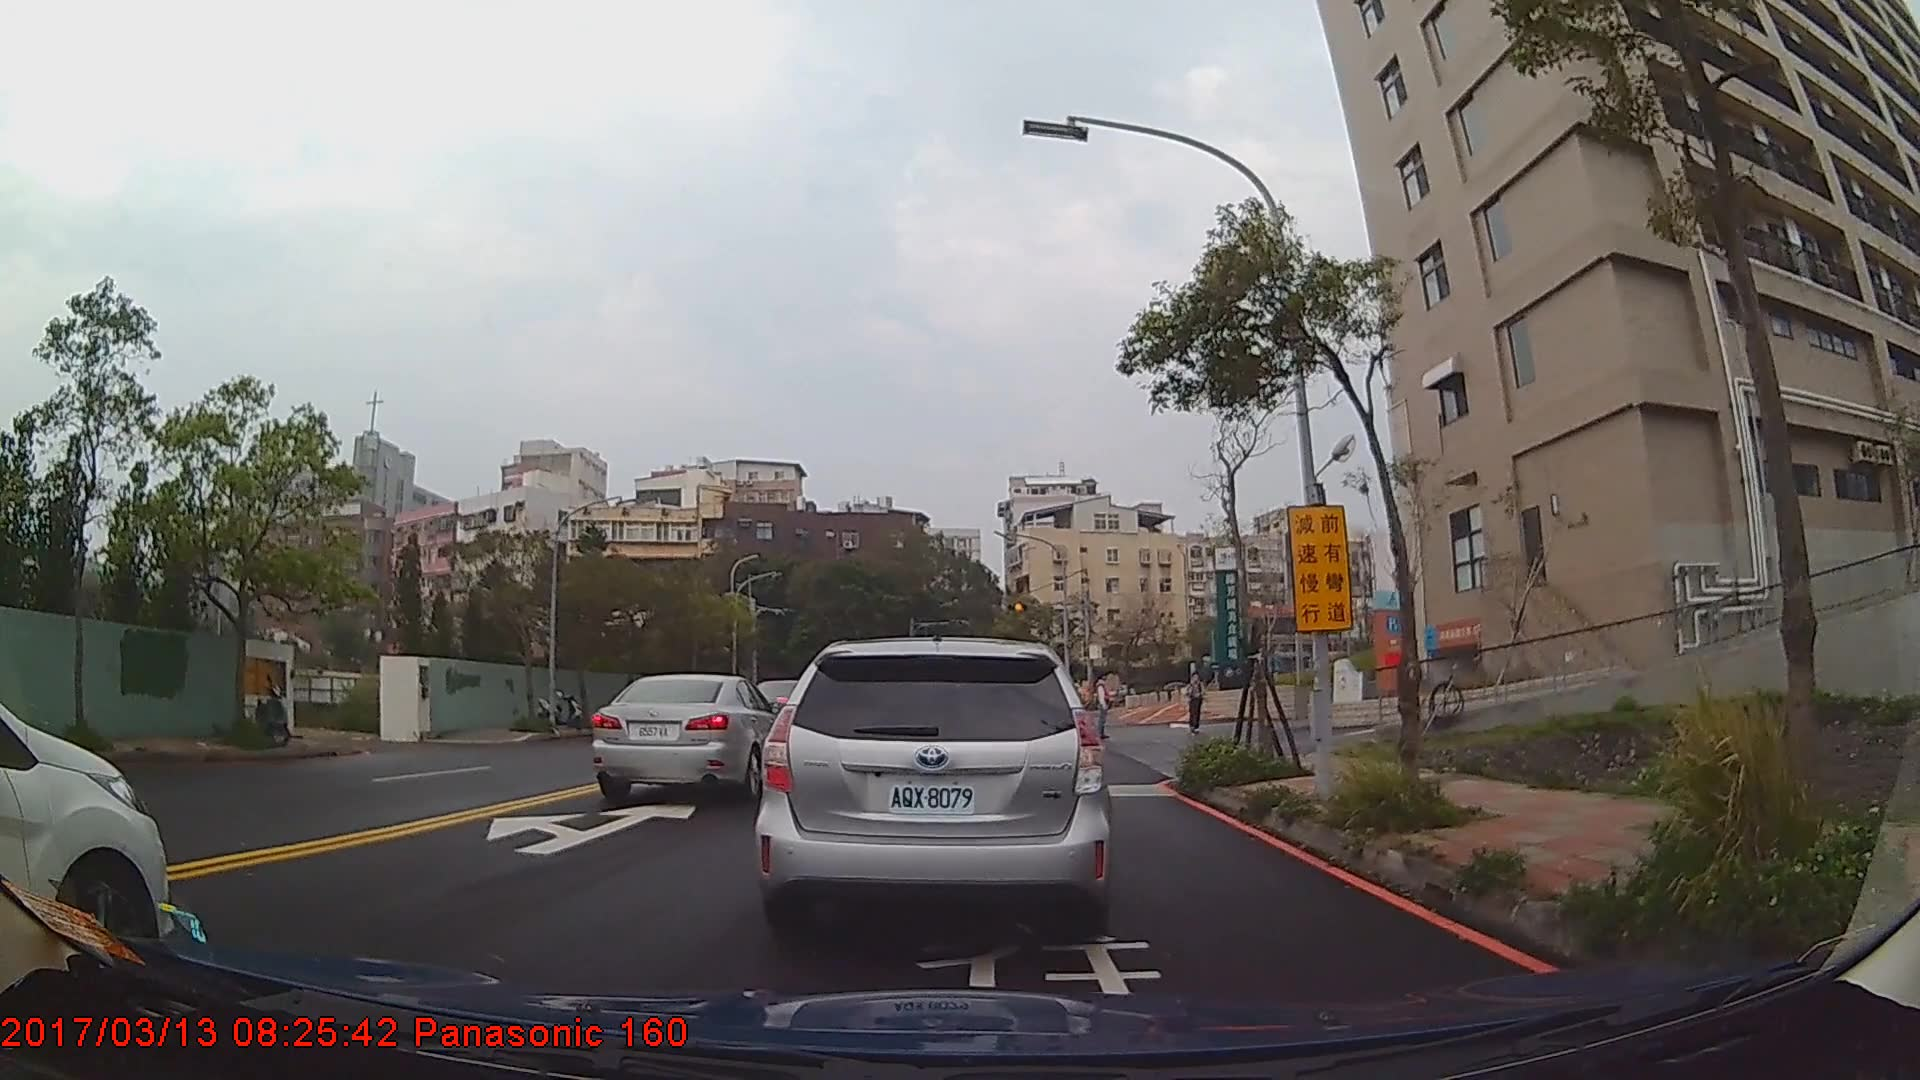pedestrian: (1094, 667, 1116, 743), (1186, 675, 1206, 735)
vehicle: (756, 638, 1112, 949), (0, 695, 172, 974), (588, 672, 786, 805)
